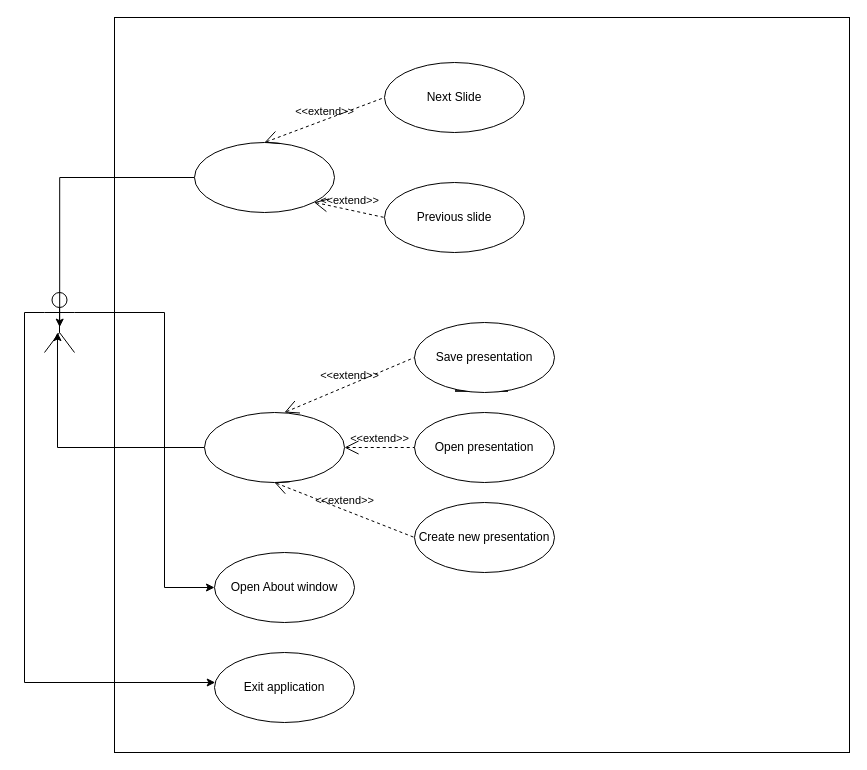
The diagram is 867 pixels wide and 770 high, and some of its shapes have lost their labels. The centre of each missing label's shape, as x and y in pixels:
"Interact with file" goes at point (274, 447).
"Interact with slide" goes at point (264, 177).
"User" goes at point (59, 322).
